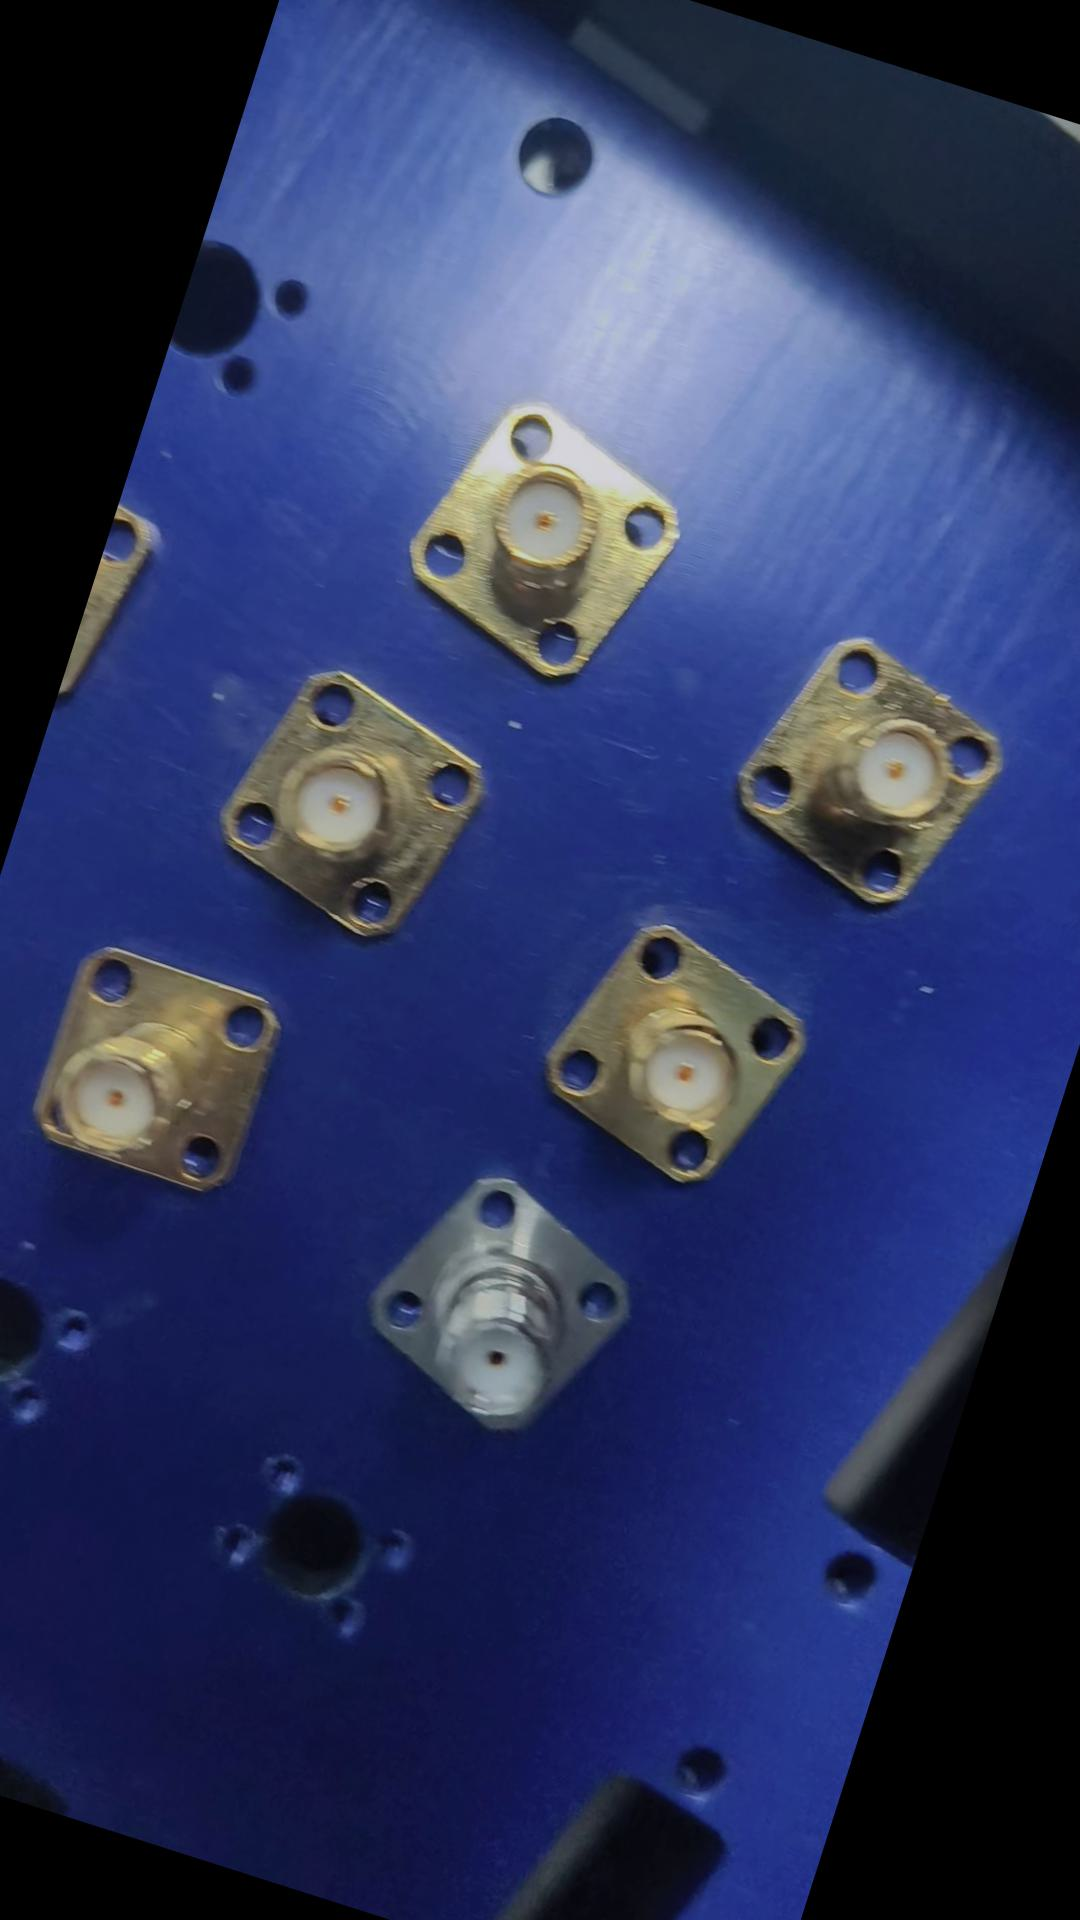SMA: (378, 373, 709, 705), (711, 609, 1035, 931), (335, 1147, 653, 1465), (193, 647, 502, 963), (513, 899, 822, 1207), (13, 928, 291, 1207)
